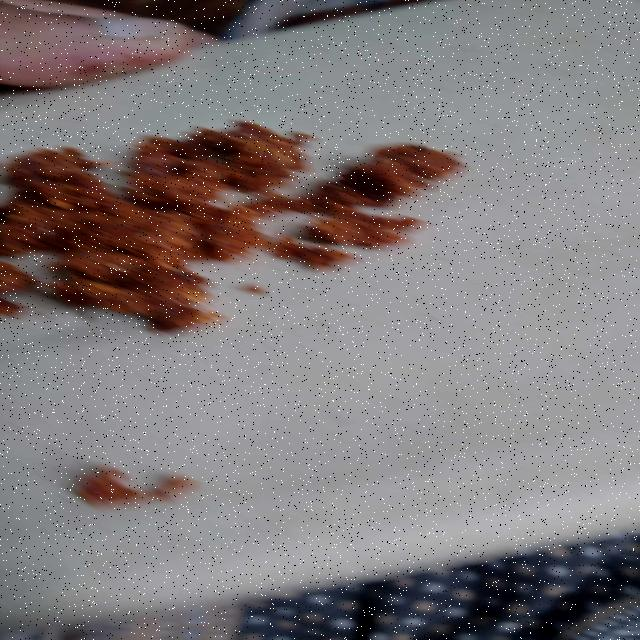Chili Pepper: (17, 111, 517, 384)
